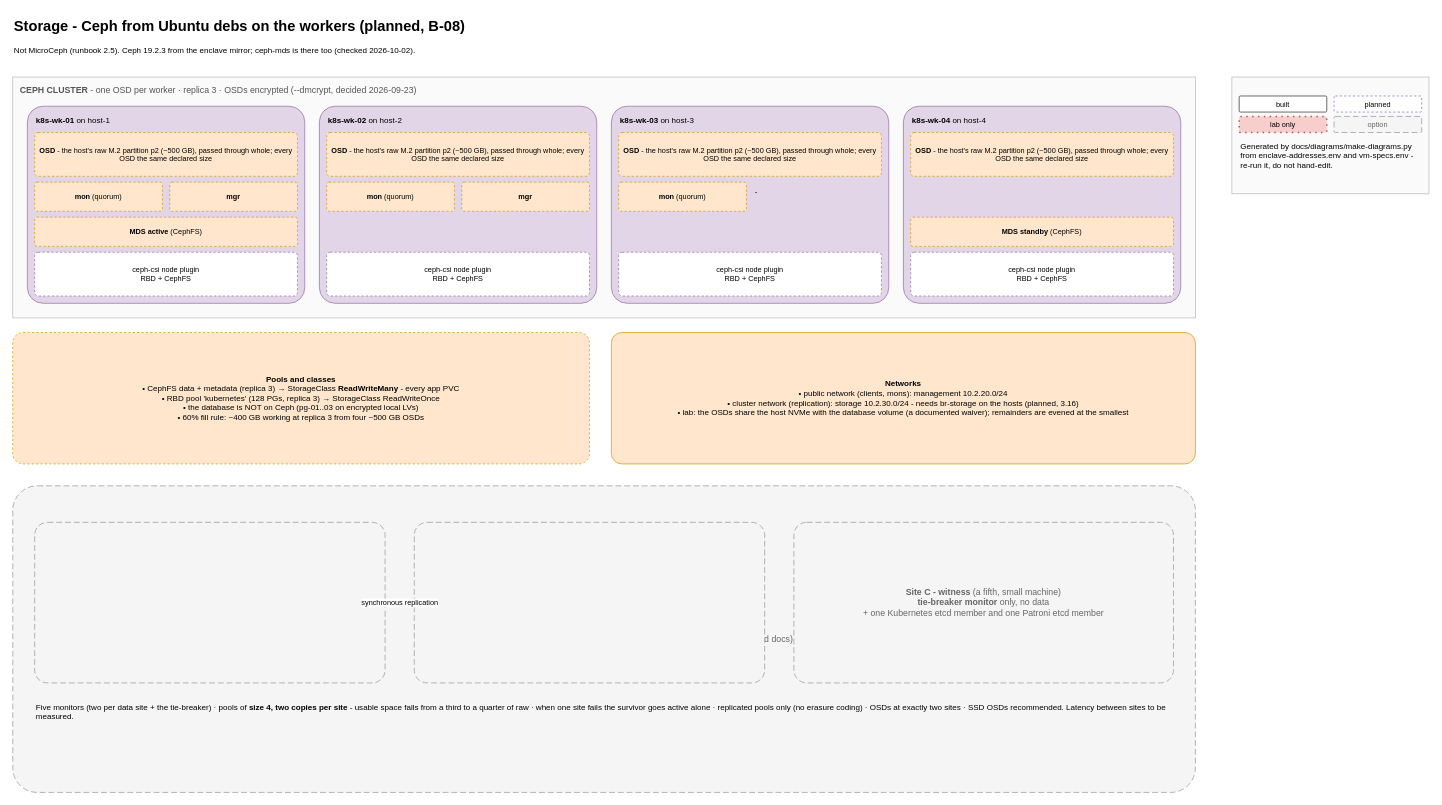
The diagram is 1442 pixels wide and 805 high, and some of its shapes have lost their labels. The box of each missing label's shape, as (x1, y1, x2, y2) in pixels:
Notation: (1231, 76, 1429, 194)
Site A 2 hosts · 2 OSD nodes 2 monitors 2 copies of every object: (34, 522, 385, 683)
Site B 2 hosts · 2 OSD nodes 2 monitors 2 copies of every object: (414, 522, 765, 683)
